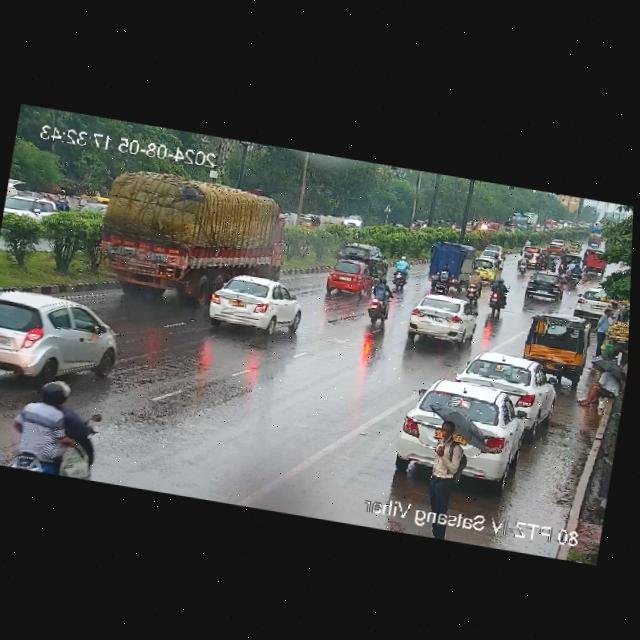car: (0, 286, 121, 388), (408, 374, 535, 457), (203, 269, 309, 342), (454, 347, 556, 422), (518, 309, 594, 378), (399, 291, 477, 350), (322, 257, 374, 298), (3, 190, 60, 225), (572, 286, 625, 320), (524, 269, 568, 303), (475, 257, 500, 280), (584, 253, 607, 275), (479, 248, 504, 267), (489, 243, 507, 258), (547, 241, 565, 255)
motorcycle: (0, 377, 107, 481), (364, 277, 400, 331), (483, 276, 511, 314), (387, 253, 412, 288), (557, 256, 584, 285), (466, 267, 485, 303), (433, 263, 453, 296), (518, 252, 530, 274), (545, 255, 558, 274), (532, 251, 544, 268), (540, 253, 550, 270), (523, 237, 531, 245), (561, 246, 569, 253)
person: (427, 408, 473, 477), (573, 362, 623, 413), (591, 304, 613, 355), (610, 299, 619, 318)
truck: (83, 160, 296, 318), (425, 240, 474, 289), (561, 238, 582, 257)
